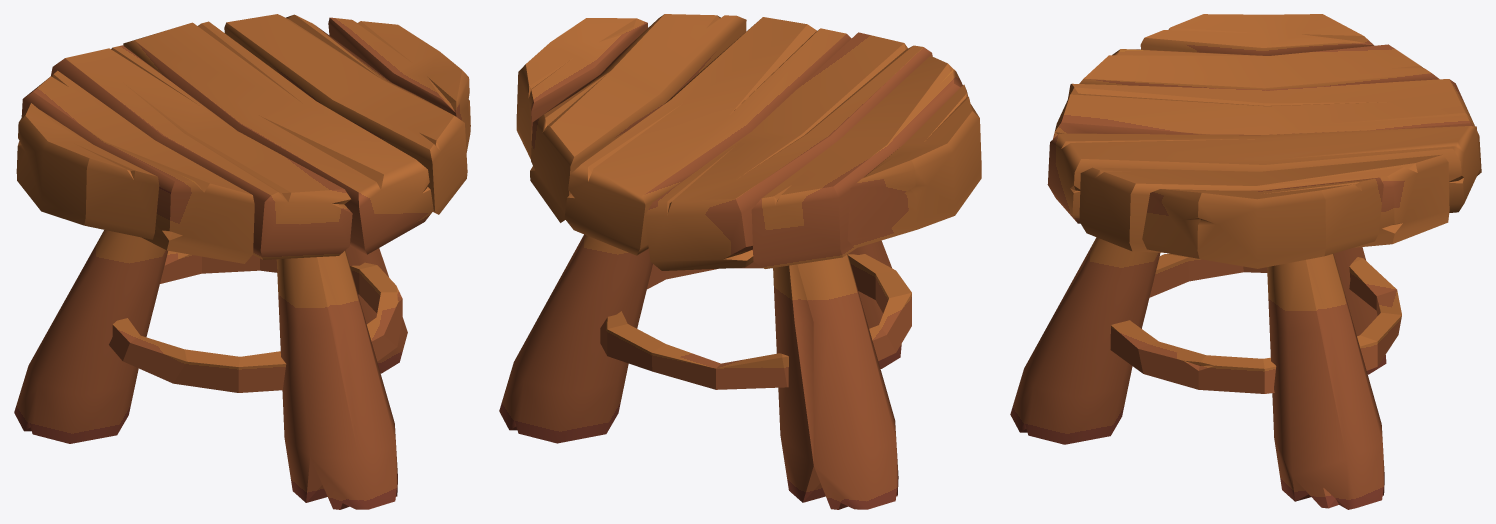
Rendered from SM_Stool.fbx.
3 renders of one model, left to right at view 1: azimuth 30°, elevation 25°; view 2: azimuth 150°, elevation 25°; view 3: azimuth 270°, elevation 25°, orthographic. The views are drawn at different scales.
Visible parts, largest first — view 1: SM_Stool; view 2: SM_Stool; view 3: SM_Stool.
Part boxes in pixels (left/top/right/bottom): SM_Stool: left=14, top=14, right=470, bottom=509; SM_Stool: left=499, top=14, right=981, bottom=509; SM_Stool: left=1010, top=14, right=1481, bottom=509.
Bounding box in the file's own units: 57.82 × 45.03 × 60.46.
1 material, 1 textured.
